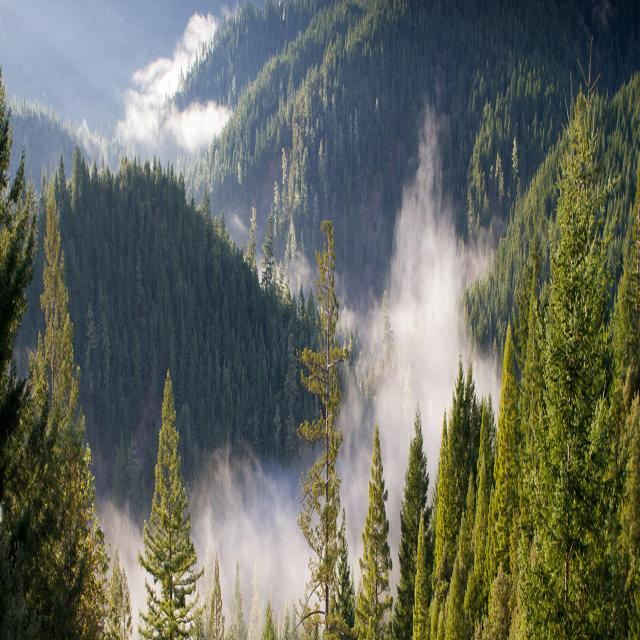Smoke: (94, 91, 503, 640)
